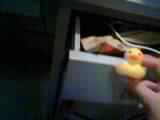duck: (105, 33, 150, 87)
